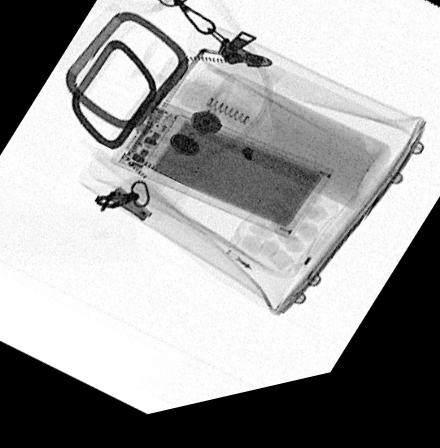Powerbank: (110, 102, 334, 251)
